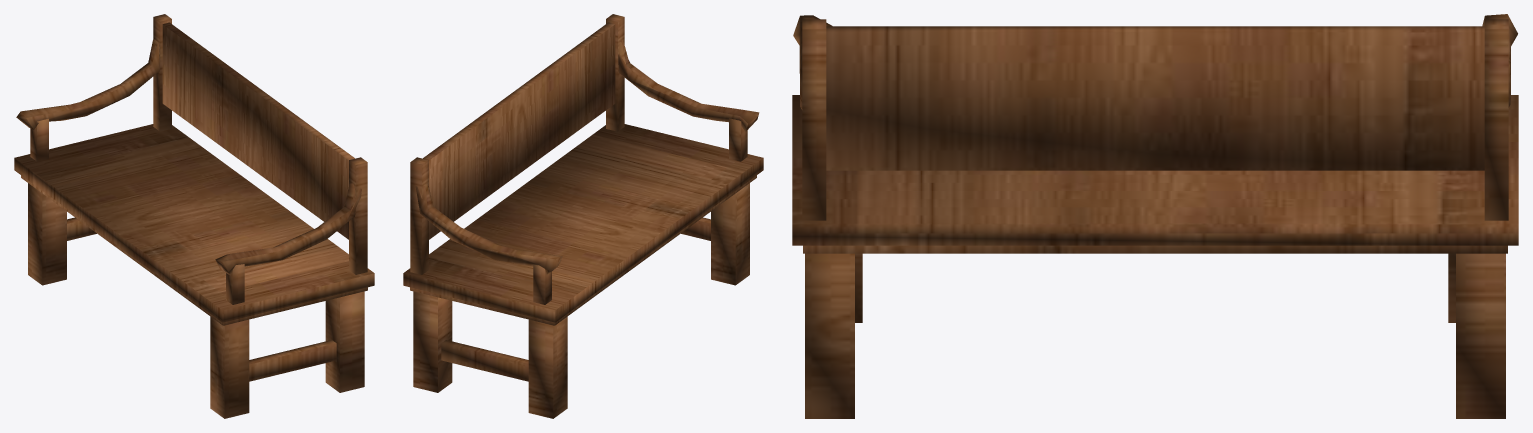
File: kursi_kayu_panjang.glb
3 renders of one model, left to right at view 1: azimuth 30°, elevation 25°; view 2: azimuth 150°, elevation 25°; view 3: azimuth 270°, elevation 25°, orthographic. The views are drawn at different scales.
Visible parts, largest first — view 1: kursi_kayu_panjang.001; view 2: kursi_kayu_panjang.001; view 3: kursi_kayu_panjang.001.
Boxes of the visible parts, x1,y1,x2,y2 form: kursi_kayu_panjang.001: (14, 14, 374, 418); kursi_kayu_panjang.001: (403, 14, 763, 418); kursi_kayu_panjang.001: (792, 14, 1518, 418).
Size of the model in its own units: 0.2097 by 0.2957 by 0.4971.
1 material, 1 textured.
